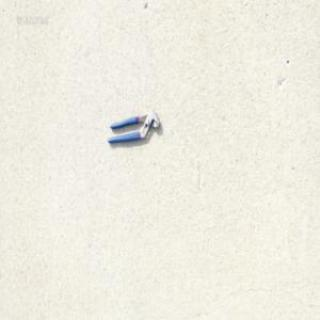Pliertrack_idkeyframe: (106, 109, 162, 145)
